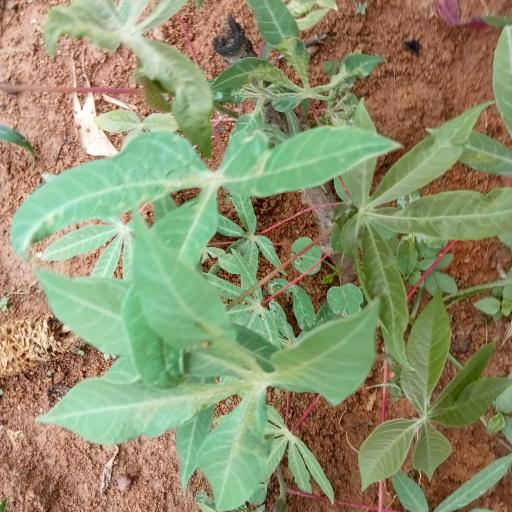Cassava_Mosaic: (73, 225, 375, 501), (32, 122, 383, 254), (363, 306, 493, 480)
